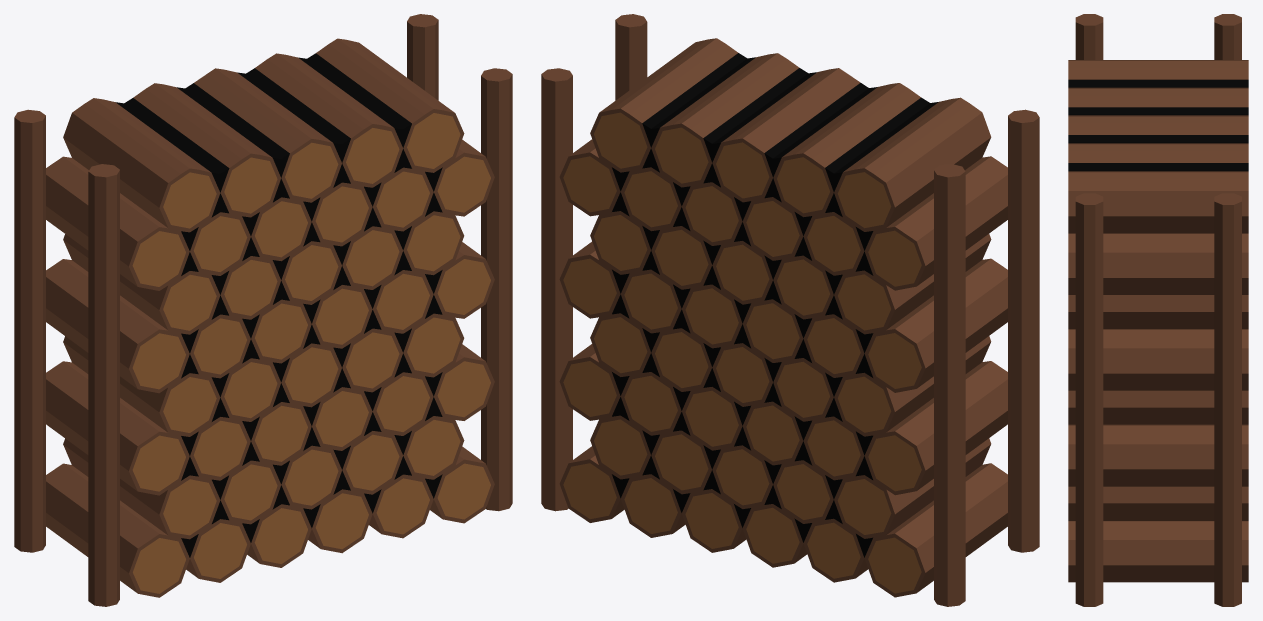
Rendered from LogPile_3.fbx.
3 views of the same model, side by side, from view 1: azimuth 30°, elevation 25°; view 2: azimuth 150°, elevation 25°; view 3: azimuth 270°, elevation 25° (orthographic). The views are drawn at different scales.
Parts seen in each view (by area): view 1: LogPile_3; view 2: LogPile_3; view 3: LogPile_3.
Boxes of the visible parts, <box> form: LogPile_3: <box>14,14,512,606</box>; LogPile_3: <box>541,14,1039,606</box>; LogPile_3: <box>1068,14,1248,606</box>.
Bounding box in the file's own units: 0.3259 × 0.32 × 0.13.
